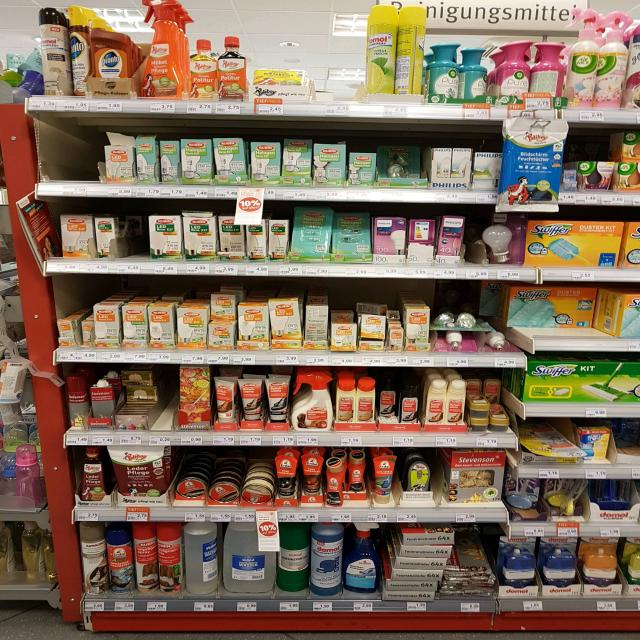unorganised: (385, 524, 452, 601), (510, 287, 597, 335), (598, 6, 629, 107), (182, 523, 221, 595), (398, 5, 425, 99), (533, 39, 566, 101), (379, 139, 424, 184), (461, 43, 489, 103), (510, 476, 544, 521), (553, 480, 587, 519), (304, 303, 330, 346), (380, 384, 400, 426)
